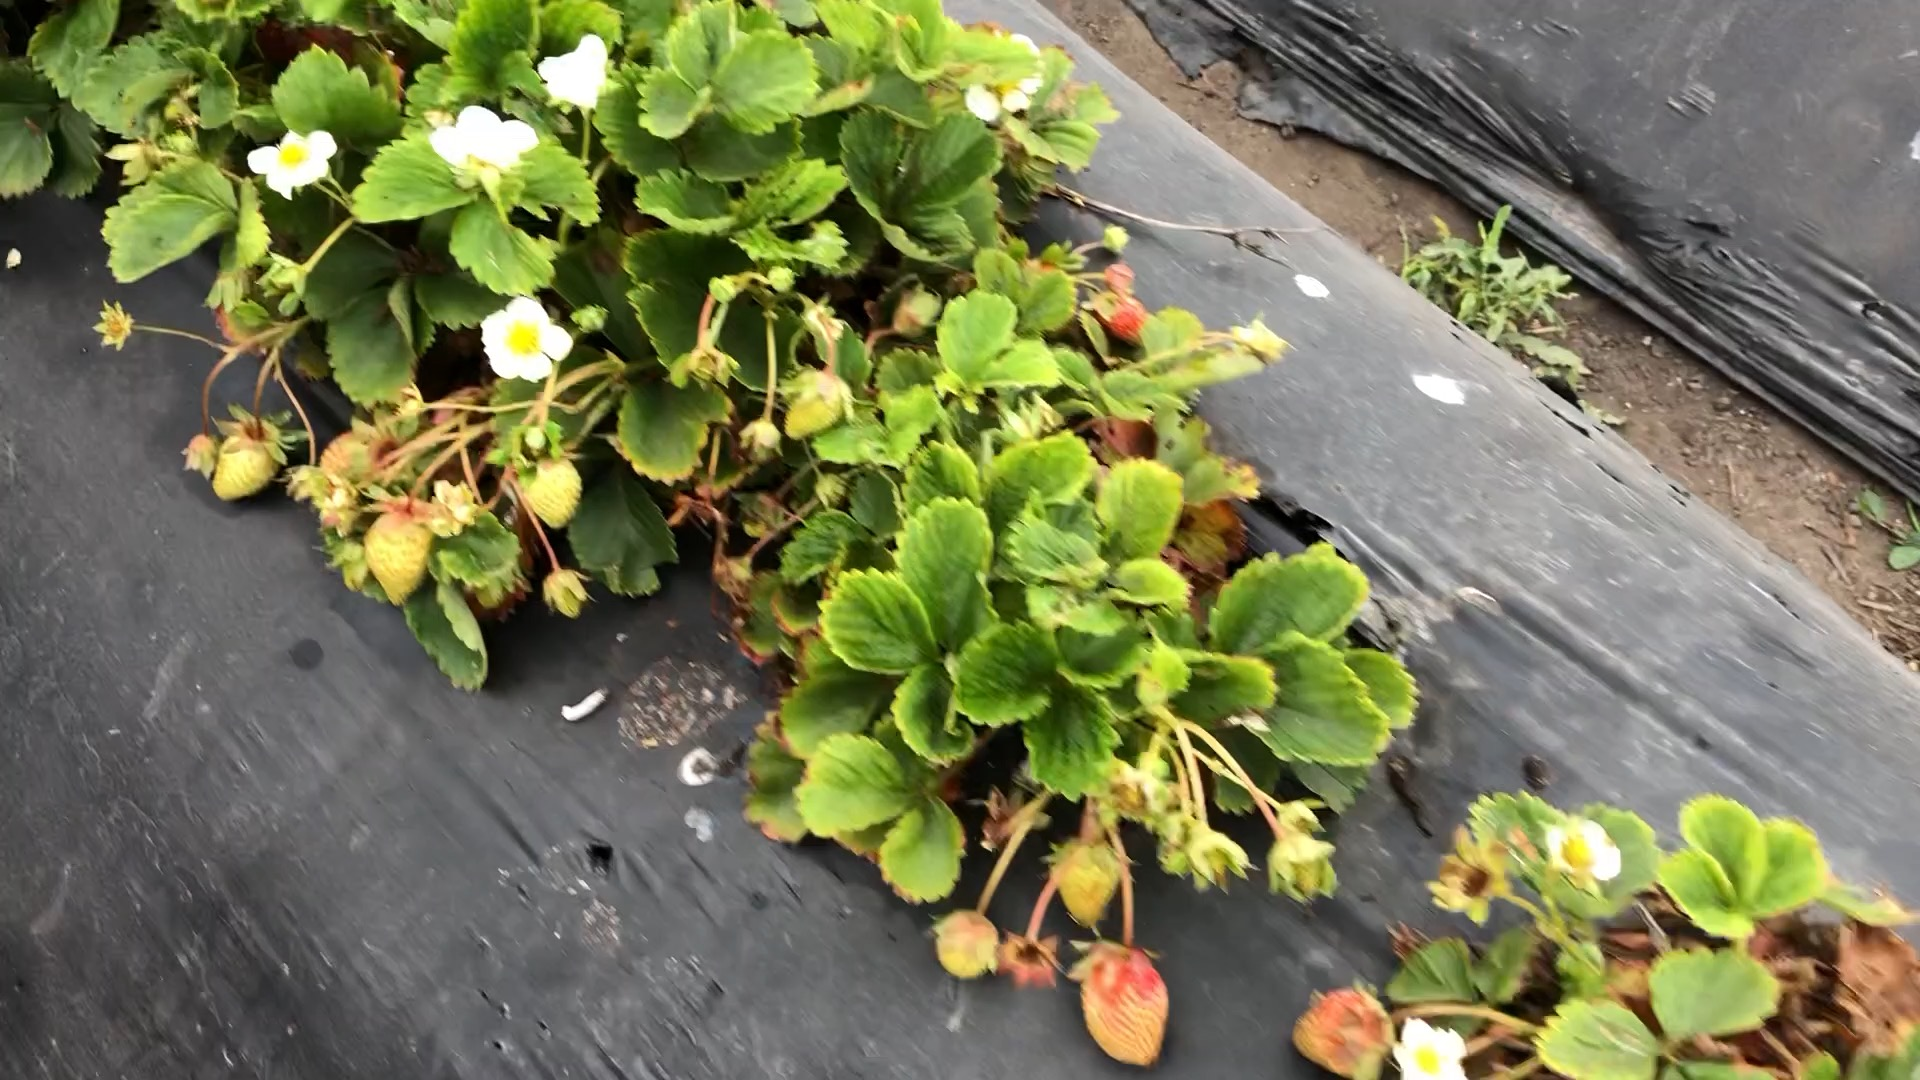ripe_strawberry: (1093, 289, 1156, 353)
unripe_strawberry: (1077, 940, 1176, 1067), (1284, 980, 1398, 1080), (361, 501, 434, 608), (208, 419, 284, 506), (1052, 843, 1126, 924), (516, 451, 585, 533), (781, 369, 855, 444), (934, 909, 1000, 981), (541, 567, 593, 626)
